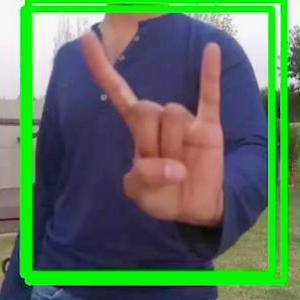takeoff-hand: (76, 16, 236, 240)
